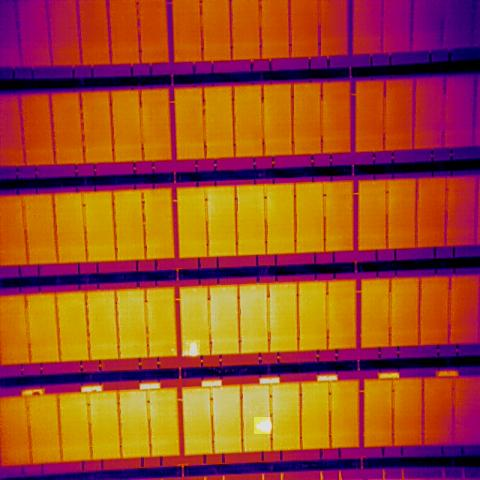fault: (254, 417, 272, 434), (186, 340, 200, 358)
